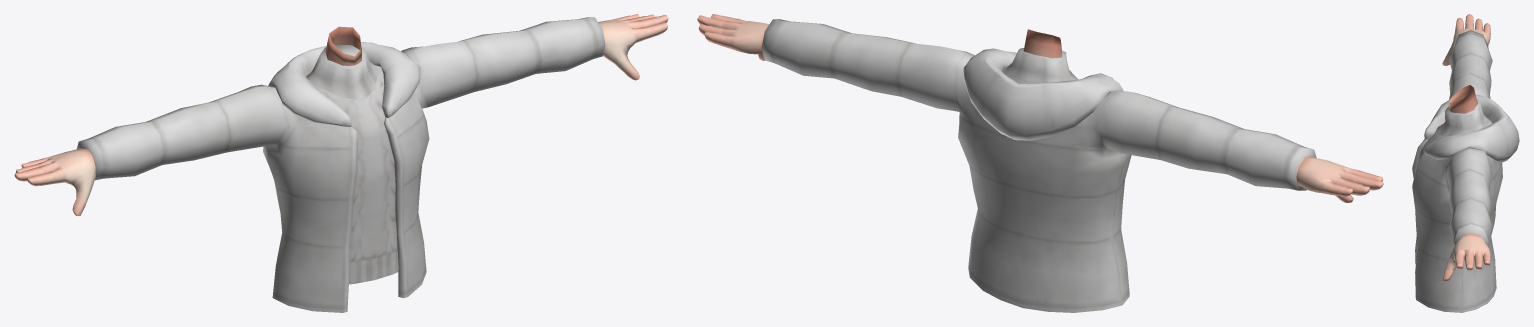
The model's file is tr0730_00_upb03.gltf.
3 views of the same model, side by side, from view 1: azimuth 30°, elevation 25°; view 2: azimuth 150°, elevation 25°; view 3: azimuth 270°, elevation 25° (orthographic). The views are drawn at different scales.
Visible parts, largest first — view 1: upb03_upperbody_mesh_shape:upperbody03, upb03_upperskin_mesh_shape:upperbody03_skin; view 2: upb03_upperbody_mesh_shape:upperbody03, upb03_upperskin_mesh_shape:upperbody03_skin; view 3: upb03_upperbody_mesh_shape:upperbody03, upb03_upperskin_mesh_shape:upperbody03_skin.
Boxes of the visible parts, <box> form: upb03_upperbody_mesh_shape:upperbody03: <box>77,17,605,312</box>; upb03_upperskin_mesh_shape:upperbody03_skin: <box>14,14,668,216</box>; upb03_upperbody_mesh_shape:upperbody03: <box>761,19,1316,312</box>; upb03_upperskin_mesh_shape:upperbody03_skin: <box>697,14,1383,202</box>; upb03_upperbody_mesh_shape:upperbody03: <box>1412,30,1519,312</box>; upb03_upperskin_mesh_shape:upperbody03_skin: <box>1442,14,1490,281</box>.
Size of what is drawn, in the model's own units: 1.63 by 0.6048 by 0.2935.
2 materials, 2 textured.
